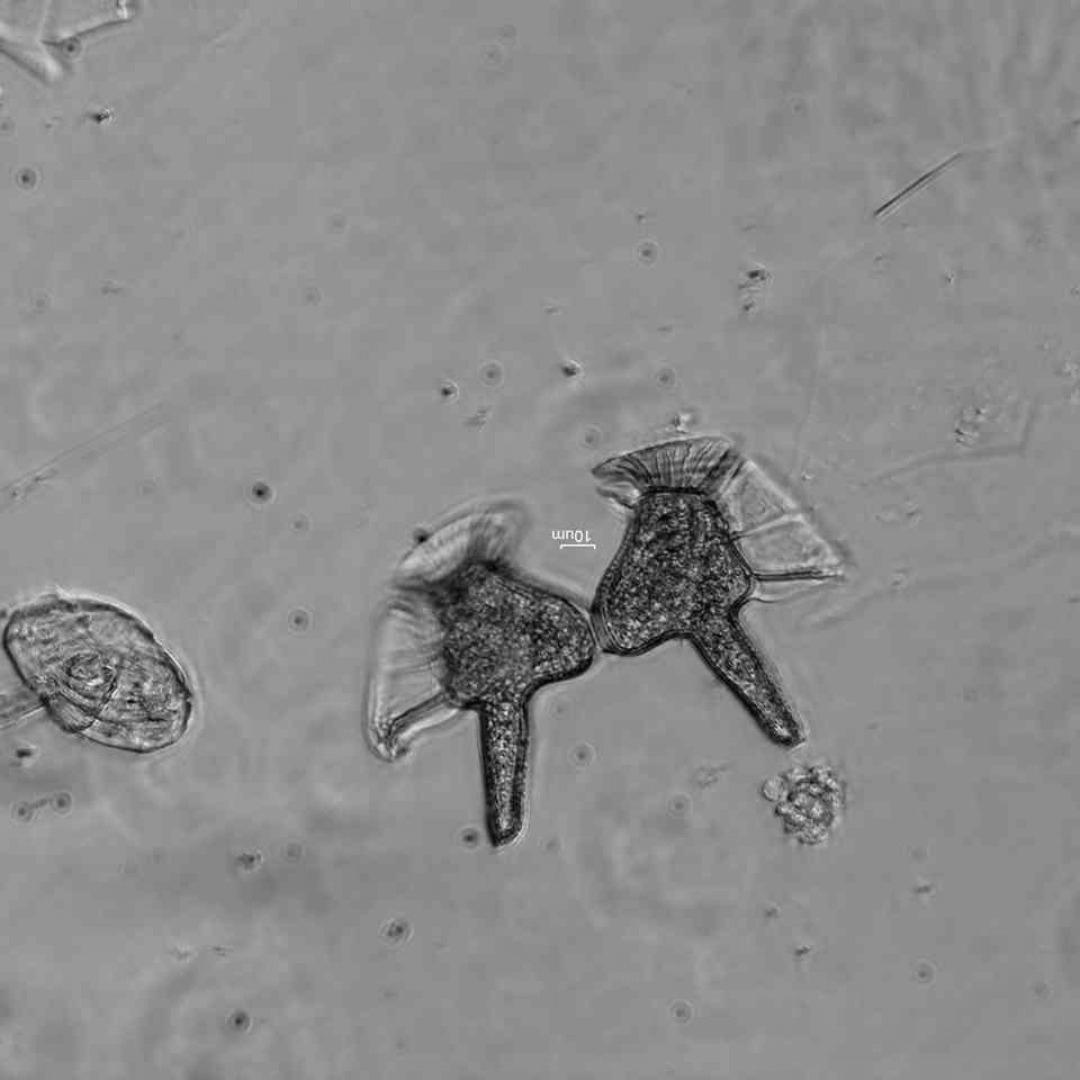dinophysis_caudata: (585, 433, 853, 741), (362, 508, 603, 846)
